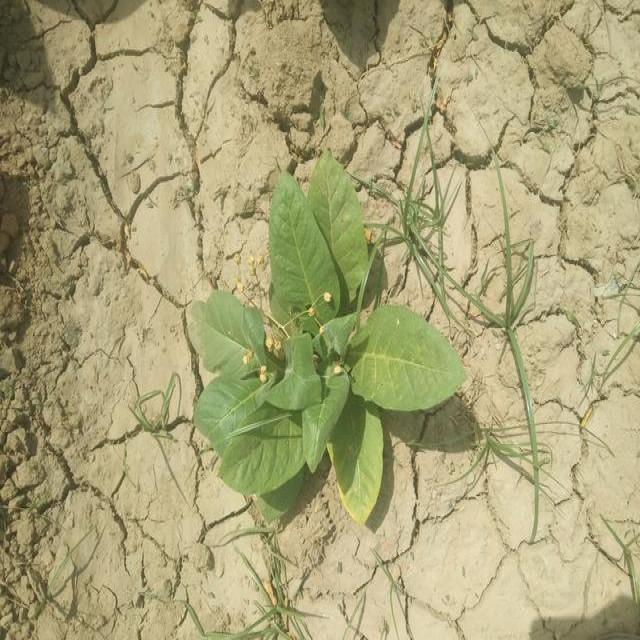crop: (184, 180, 455, 522)
